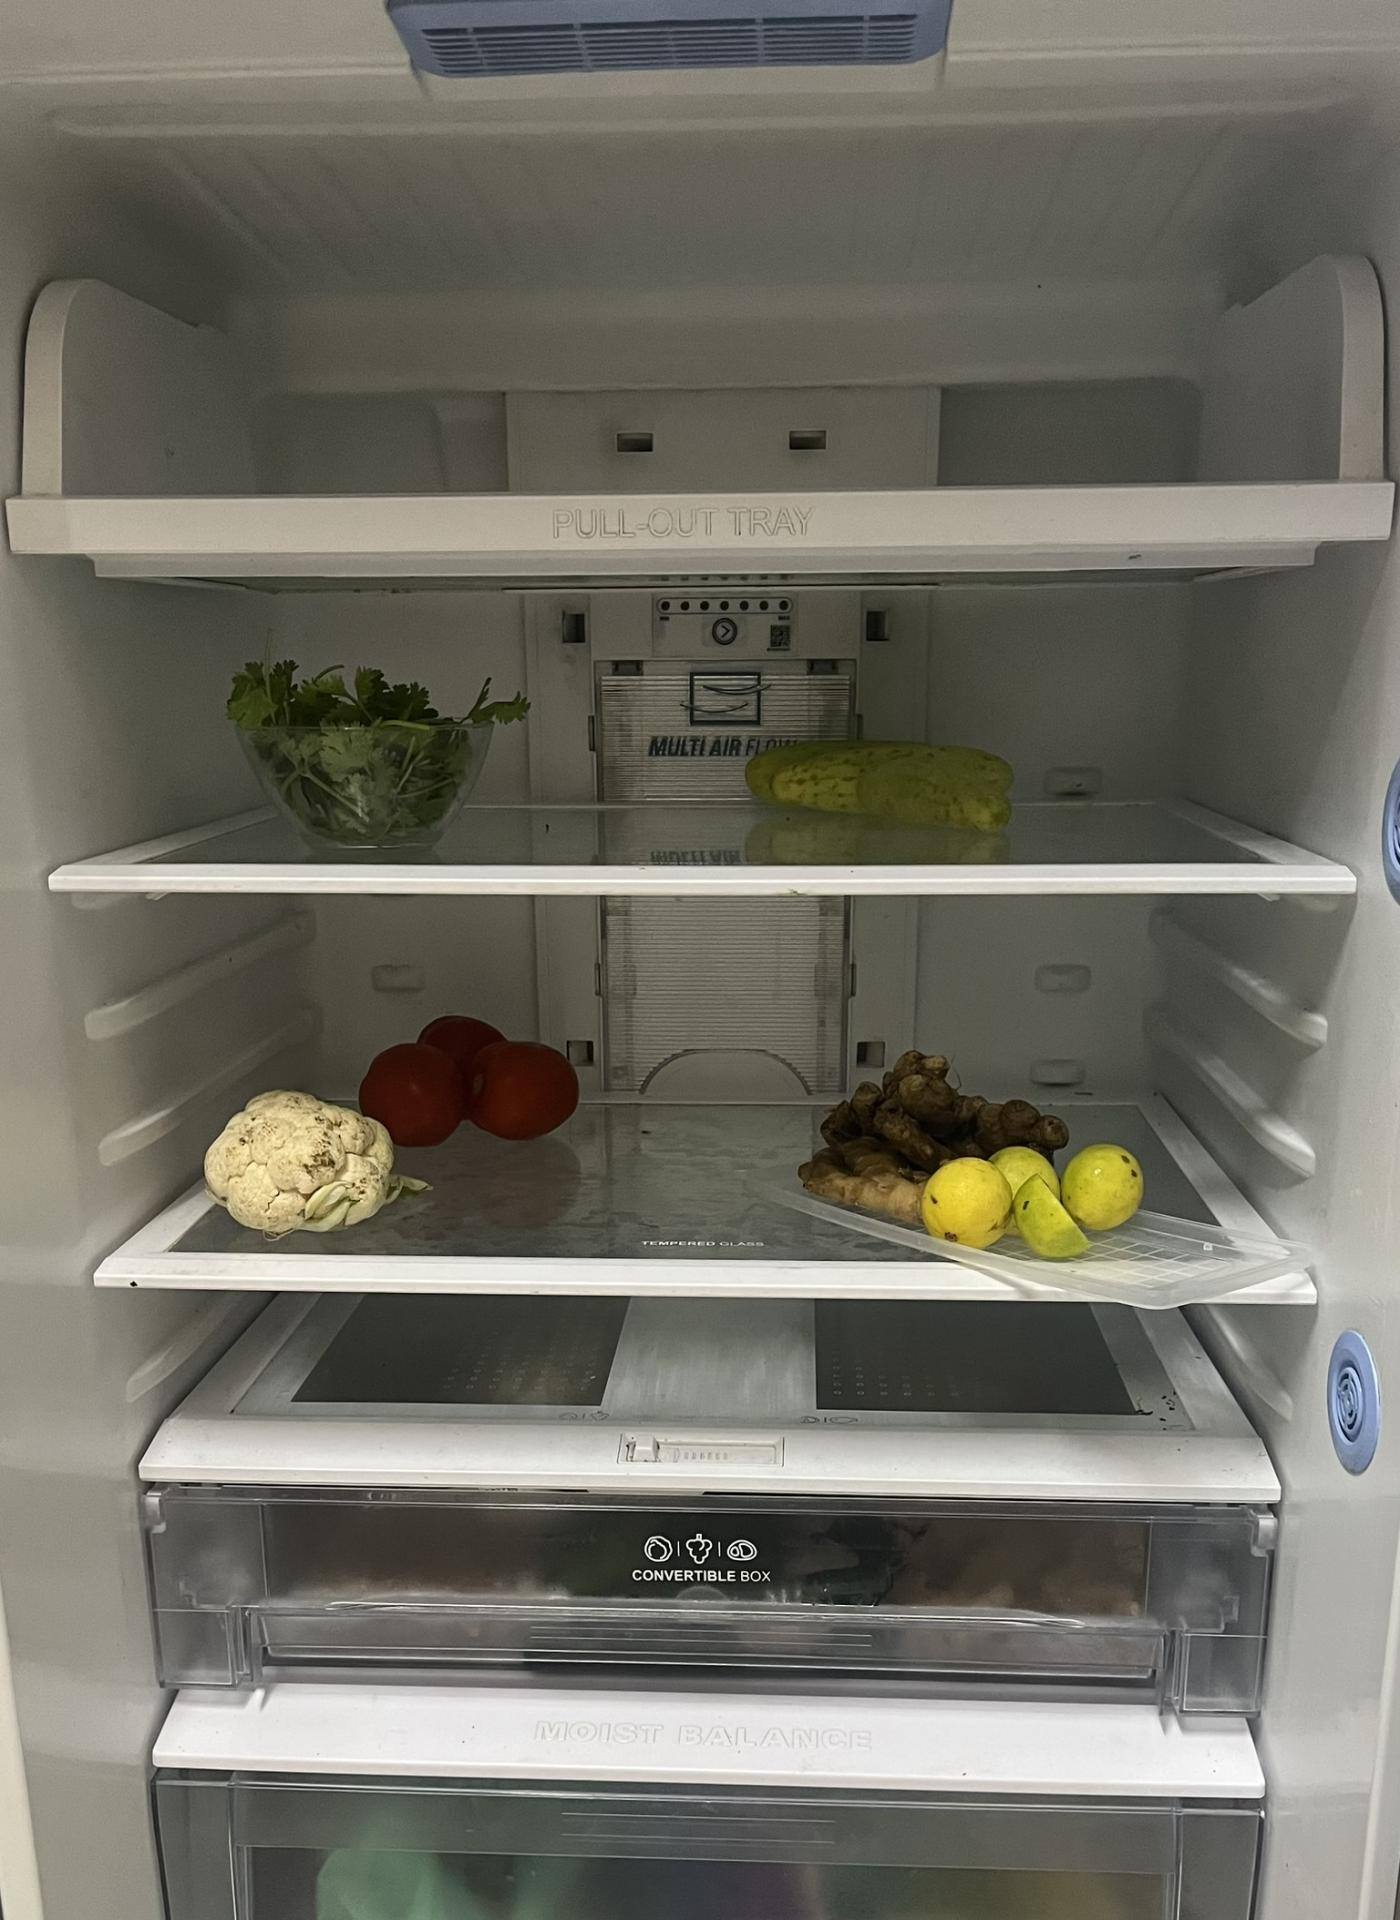cauliflower: (204, 1090, 397, 1233)
coriander: (228, 654, 522, 851)
cucumber: (747, 739, 1014, 835)
ginger: (804, 1049, 1065, 1210)
lemon: (923, 1145, 1142, 1257)
tomato: (361, 1017, 581, 1143)
